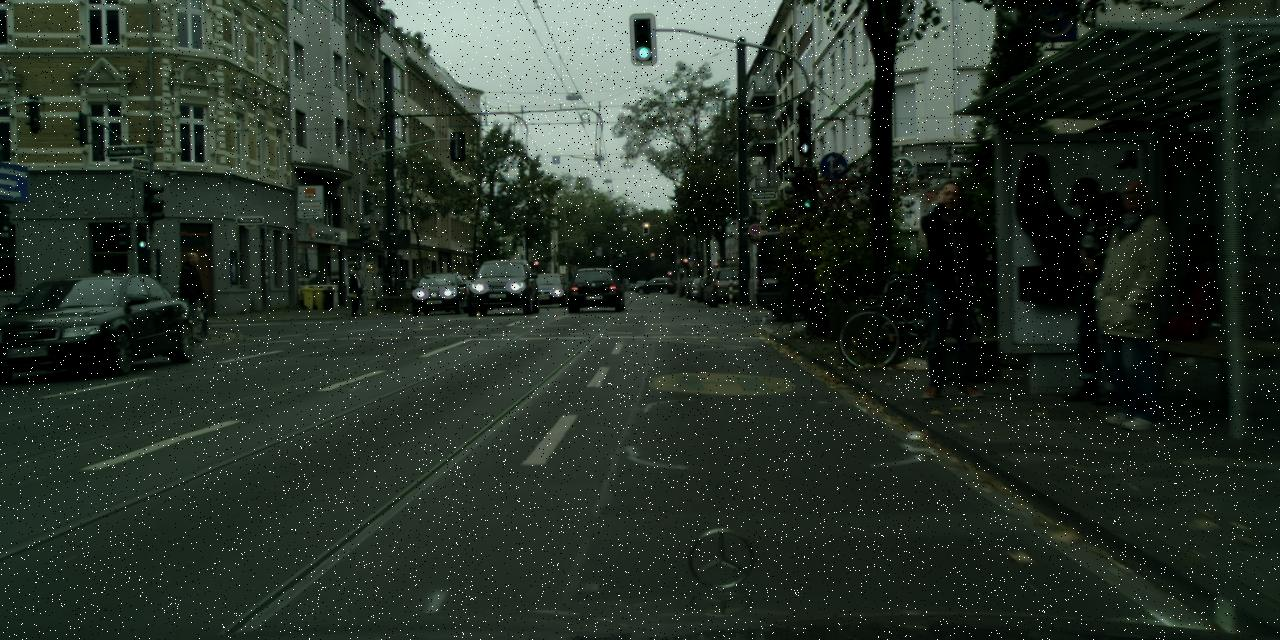ped: (1083, 179, 1185, 429), (1044, 178, 1135, 402), (906, 180, 994, 398), (172, 252, 210, 343), (346, 266, 365, 314)
